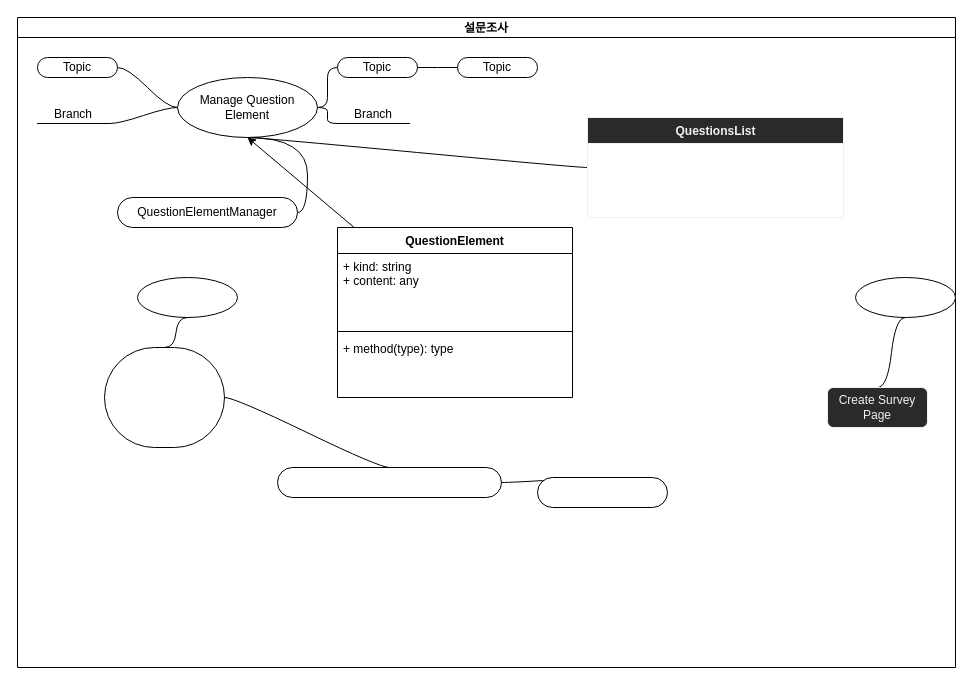
This 973x685 diagram has some shape labels left out. Each missing label, with the box of its shape:
Answer Page questions data: (104, 346, 224, 448)
Answer Question: (536, 476, 668, 508)
Answer Questions List: (276, 466, 502, 498)
Answer Survey: (136, 276, 238, 318)
Create Survey: (854, 276, 956, 318)
